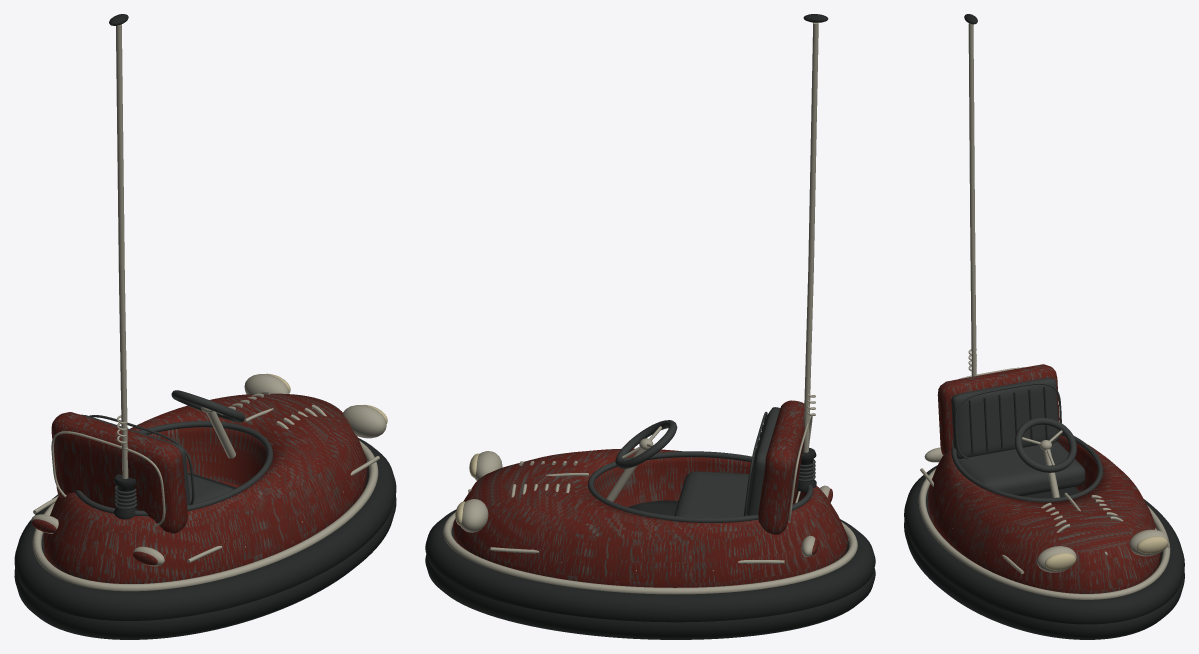
The model's file is SM_BumperCar_fd8fc5462e.fbx.
The picture shows the model from 3 angles, left to right: view 1: azimuth 30°, elevation 25°; view 2: azimuth 150°, elevation 25°; view 3: azimuth 270°, elevation 25°; orthographic projection. The views are drawn at different scales.
Parts seen in each view (by area): view 1: SM_BumperCar_fd8fc5462e; view 2: SM_BumperCar_fd8fc5462e; view 3: SM_BumperCar_fd8fc5462e.
Boxes of the visible parts, x1,y1,x2,y2 form: SM_BumperCar_fd8fc5462e: (14, 14, 396, 639); SM_BumperCar_fd8fc5462e: (425, 14, 875, 639); SM_BumperCar_fd8fc5462e: (904, 14, 1184, 639).
Size of what is drawn, in the model's own units: 257 by 191 by 373.
6 materials, 2 textured.
